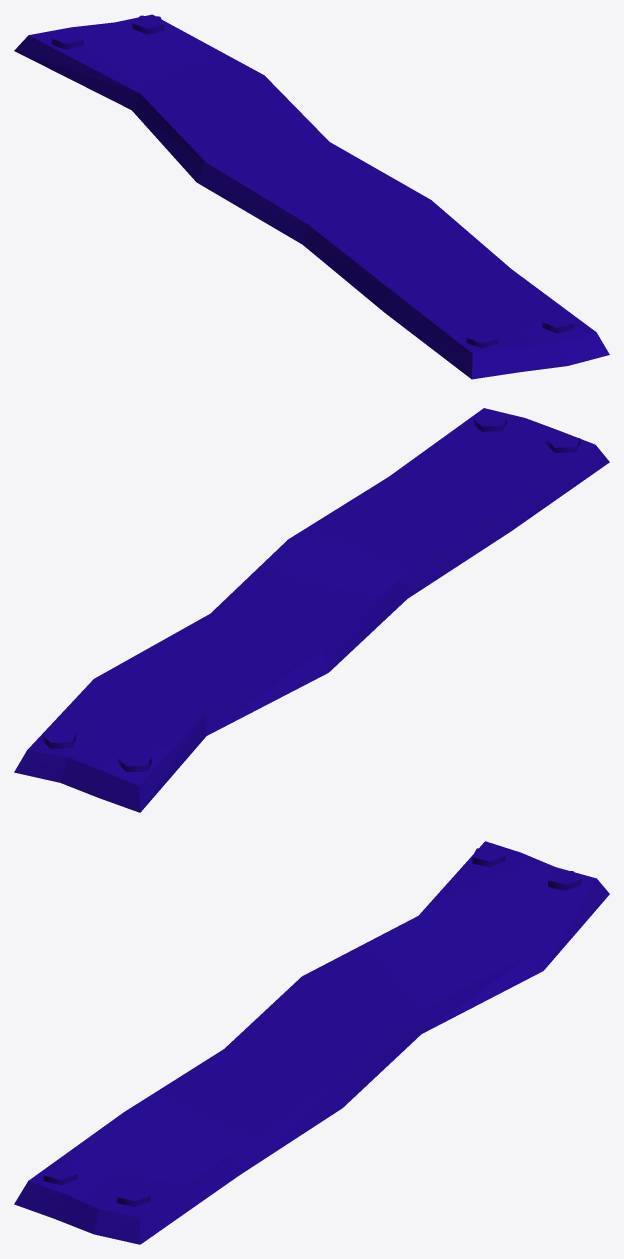
Rendered from CG_Model_TownInt_MetalPlate2_Mar24_ChrisMcknight.FBX.
3 renders of one model, top to bottom at view 1: azimuth 30°, elevation 25°; view 2: azimuth 150°, elevation 25°; view 3: azimuth 330°, elevation 25°, orthographic. The views are drawn at different scales.
Bounding box in the file's own units: 6.92 × 1.05 × 35.37.
